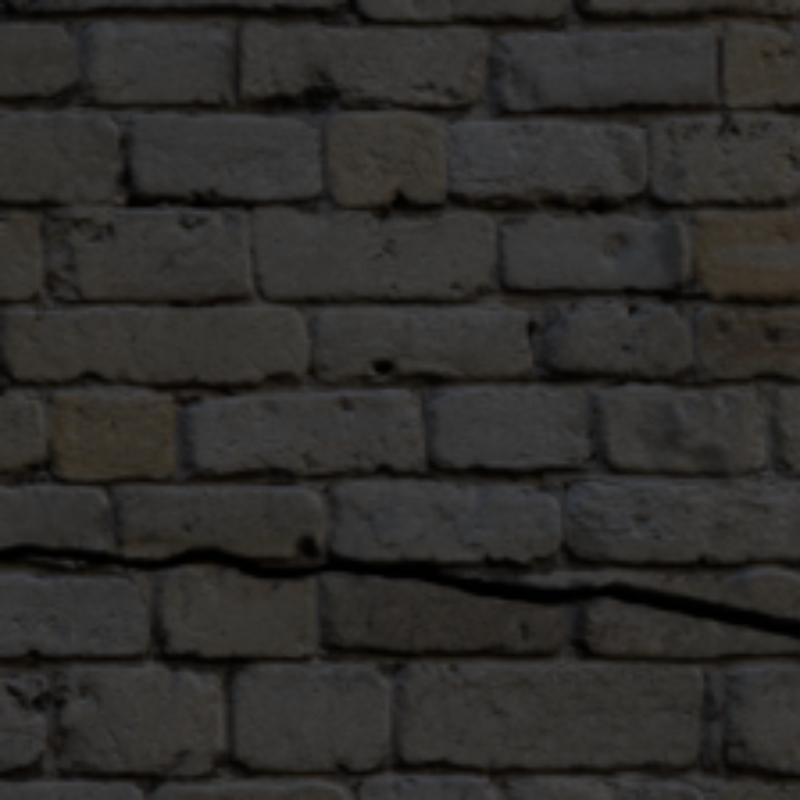pothole: (0, 546, 796, 636)
